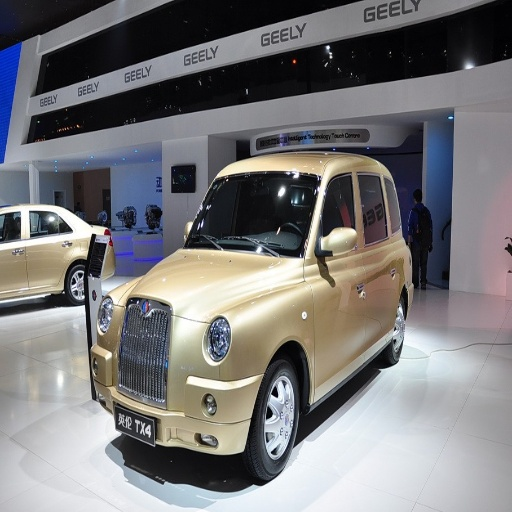front_bumper: (112, 316, 263, 453)
front_glass: (186, 172, 318, 254)
front_left_door: (315, 170, 374, 394), (2, 209, 28, 293)
trunk: (116, 328, 204, 398)
